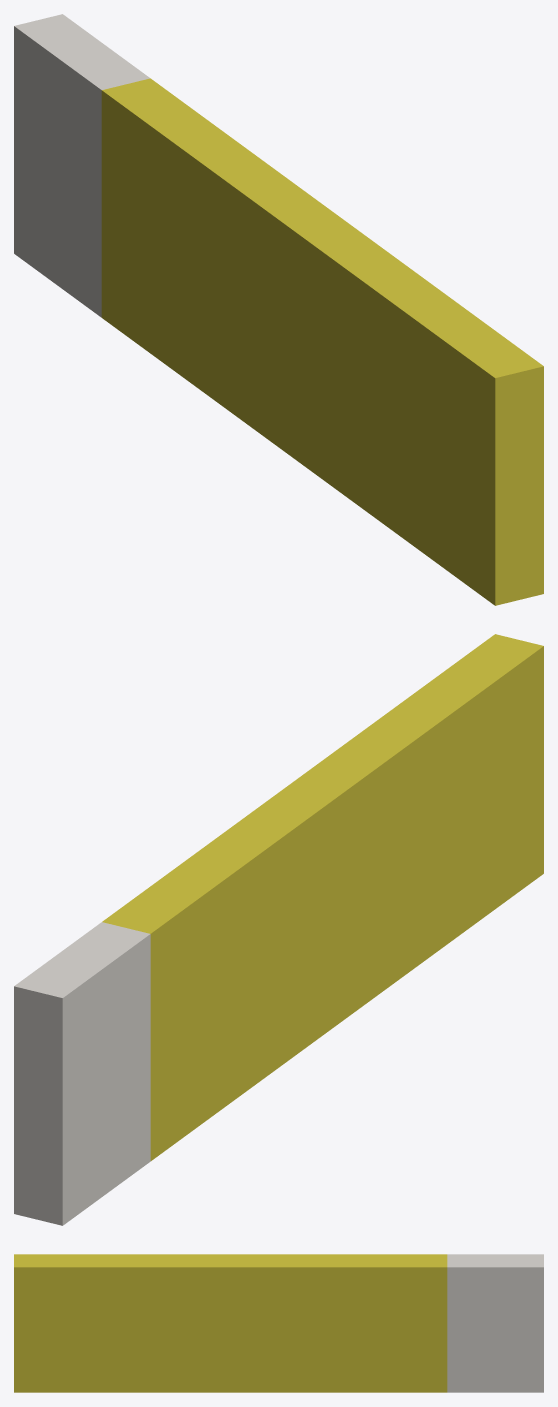
3 renders of one model, top to bottom at view 1: azimuth 30°, elevation 25°; view 2: azimuth 150°, elevation 25°; view 3: azimuth 270°, elevation 25°, orthographic. The views are drawn at different scales.
Parts seen in each view (by area): view 1: Cube, Cube.001; view 2: Cube, Cube.001; view 3: Cube, Cube.001.
Part boxes in pixels (bbox=[...]): Cube: bbox=[101, 78, 543, 605]; Cube.001: bbox=[14, 14, 149, 317]; Cube: bbox=[102, 634, 543, 1160]; Cube.001: bbox=[14, 922, 150, 1225]; Cube: bbox=[14, 1254, 447, 1392]; Cube.001: bbox=[447, 1254, 543, 1392].
Size of the model in its own units: 11.71 by 52.21 by 200.
